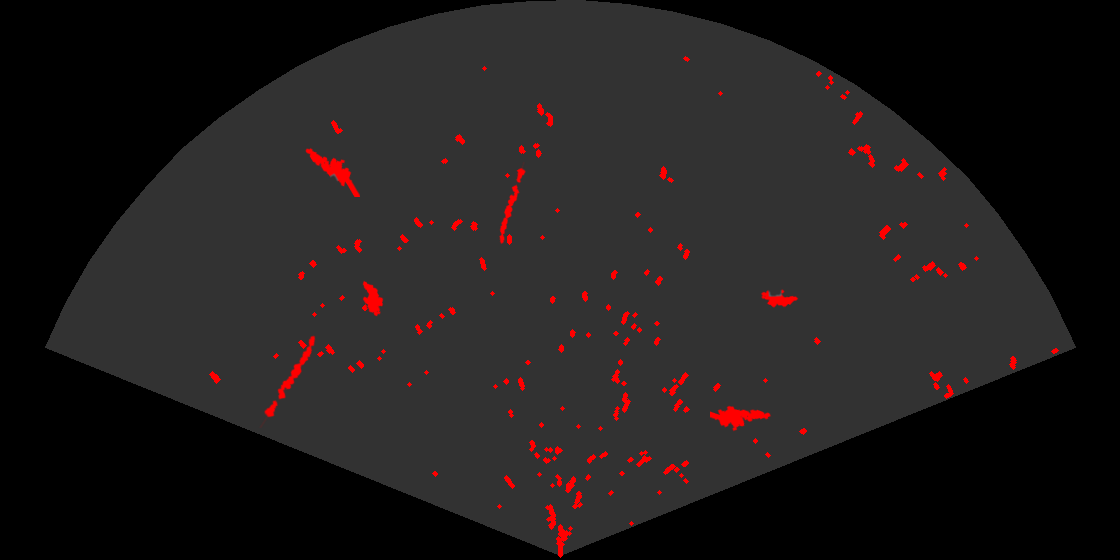AUV: (361, 279, 385, 318), (759, 288, 800, 309)
chain: (258, 334, 317, 428), (498, 162, 527, 246)
frogman: (304, 146, 360, 197), (710, 404, 773, 433)
